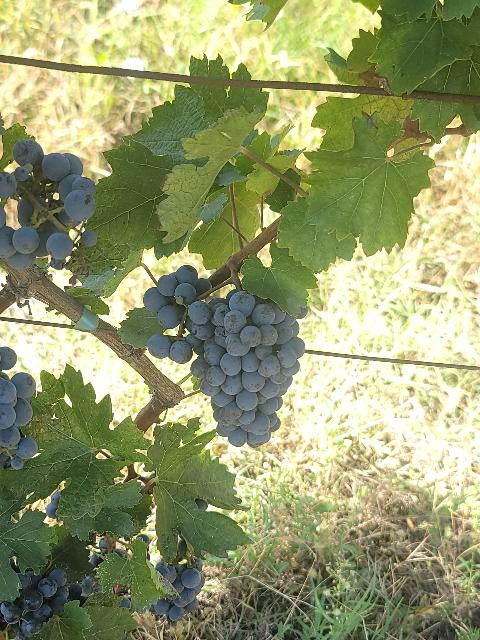grapes: (144, 265, 305, 448), (0, 124, 98, 270)
